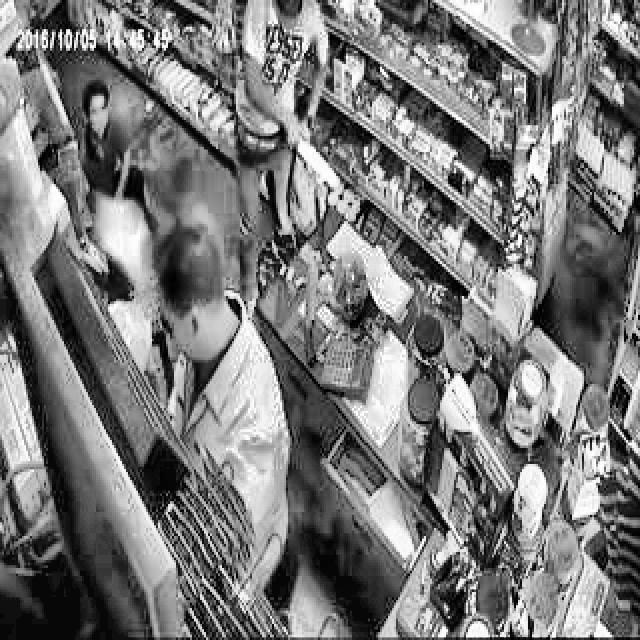Weapon: (135, 223, 341, 574), (55, 59, 211, 299), (218, 2, 386, 212)
